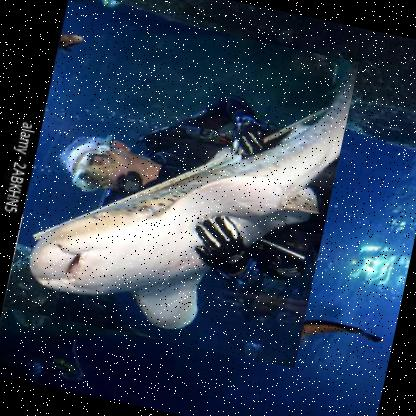zebra_shark: (1, 0, 358, 369)
